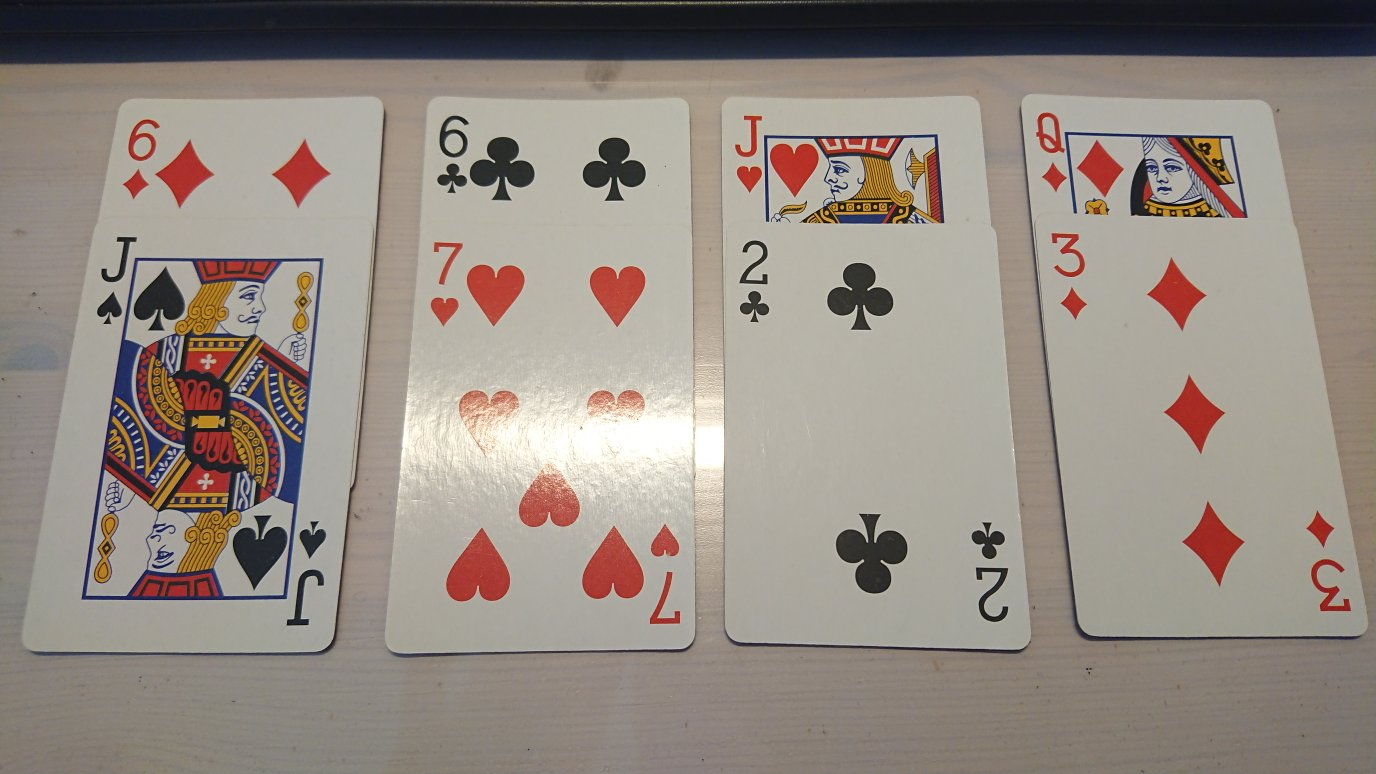2C: (735, 238, 774, 326)
3D: (1044, 227, 1094, 323)
6C: (434, 112, 474, 198)
6D: (120, 115, 163, 202)
7H: (427, 239, 467, 330)
JH: (728, 109, 768, 196)
JS: (94, 228, 140, 330)
QD: (1030, 106, 1072, 196)
